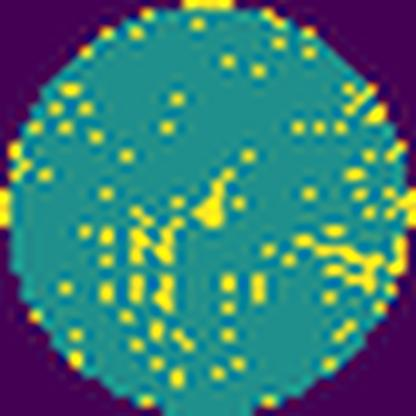Edge-Loc: (301, 236, 382, 291), (192, 160, 238, 228), (132, 224, 178, 261)
